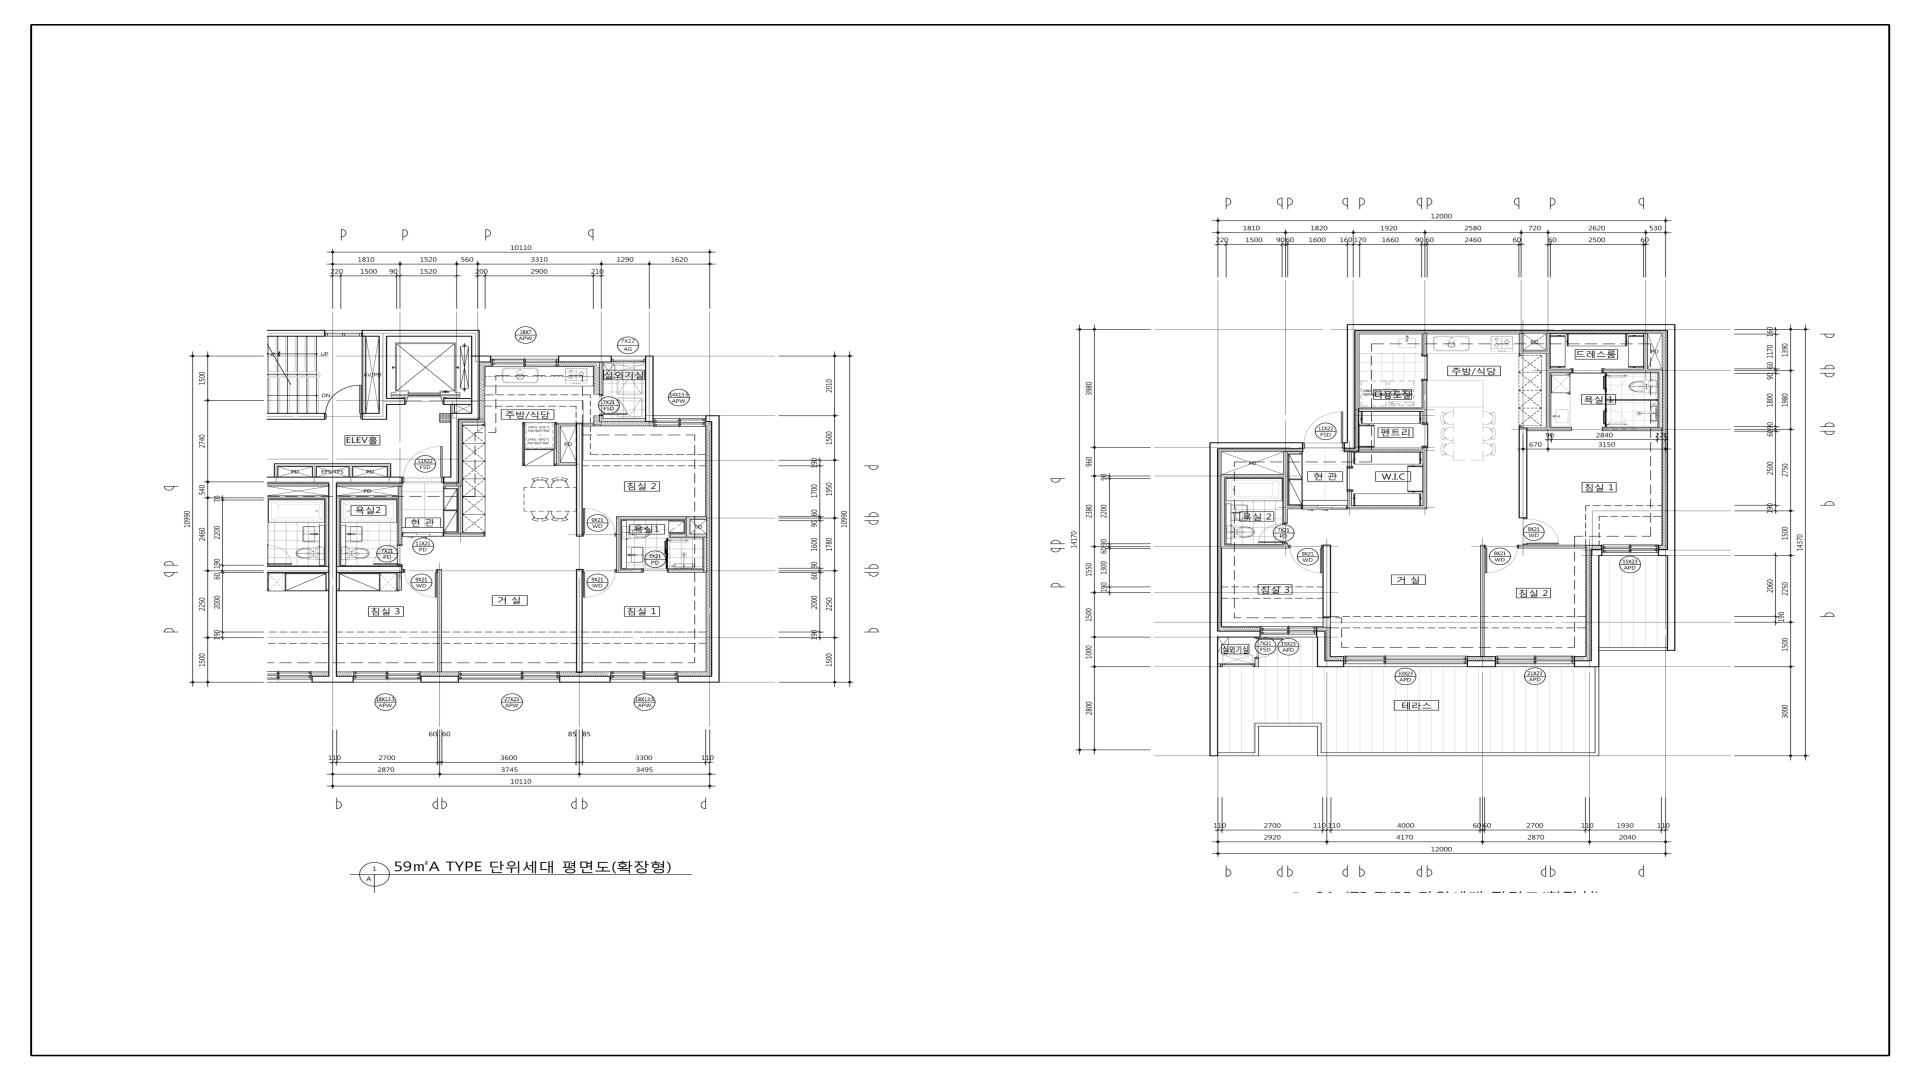door: (402, 446, 443, 484), (1303, 411, 1344, 444), (326, 385, 361, 419), (401, 568, 438, 597), (583, 508, 616, 537), (1523, 518, 1559, 545), (583, 570, 616, 597), (1485, 547, 1518, 574), (1290, 547, 1321, 574), (373, 543, 404, 566), (642, 550, 669, 572), (1258, 524, 1284, 543), (1257, 638, 1283, 657), (1604, 409, 1627, 425), (1604, 376, 1627, 392), (1302, 505, 1346, 509), (402, 533, 443, 537), (1422, 356, 1428, 380), (1346, 468, 1353, 491), (1422, 425, 1428, 447), (1572, 369, 1602, 373), (1571, 429, 1604, 430)
wall: (1344, 324, 1676, 555), (1209, 442, 1303, 667), (705, 415, 720, 676), (1575, 549, 1602, 667), (328, 484, 338, 676), (266, 476, 402, 484), (1316, 630, 1344, 667), (1518, 427, 1527, 518), (471, 330, 480, 413), (576, 423, 583, 537), (361, 330, 471, 336), (378, 336, 388, 413), (576, 568, 583, 673), (1480, 545, 1485, 657), (1323, 545, 1331, 617), (645, 356, 653, 422), (1545, 334, 1551, 427), (451, 419, 459, 477), (338, 566, 402, 572), (361, 336, 367, 413), (438, 570, 442, 671), (266, 330, 324, 336), (268, 413, 326, 419), (1221, 543, 1290, 549), (558, 356, 612, 363), (620, 516, 707, 520), (559, 676, 611, 683), (274, 464, 392, 467), (599, 415, 645, 422), (421, 675, 459, 683), (1348, 505, 1423, 509), (1283, 451, 1287, 524), (678, 676, 720, 683), (336, 496, 340, 566), (1518, 545, 1586, 549), (1221, 477, 1225, 545), (1358, 407, 1423, 411), (1360, 448, 1423, 452), (1423, 447, 1427, 509), (1604, 427, 1663, 431), (398, 487, 402, 545), (1659, 372, 1663, 427), (616, 517, 620, 570), (1466, 661, 1497, 667), (328, 675, 353, 683), (451, 413, 480, 419), (1643, 334, 1648, 369), (443, 398, 471, 405), (459, 487, 463, 533), (1423, 380, 1427, 425), (1527, 427, 1571, 431), (599, 363, 604, 394), (1221, 475, 1283, 477), (443, 533, 484, 537), (1602, 369, 1663, 372), (556, 426, 560, 465), (363, 413, 386, 419), (340, 496, 398, 498), (670, 534, 707, 538), (443, 476, 459, 484), (703, 538, 707, 570), (386, 398, 405, 405), (1519, 349, 1545, 353), (669, 570, 707, 572), (397, 572, 402, 591), (1423, 334, 1427, 356), (1323, 617, 1331, 628), (686, 520, 691, 534), (480, 356, 491, 363), (1607, 400, 1659, 401), (616, 570, 641, 572), (1519, 334, 1523, 349), (1348, 452, 1352, 468), (1348, 491, 1352, 505), (1287, 505, 1302, 509), (1254, 657, 1259, 667), (311, 467, 316, 477), (348, 467, 353, 477), (1551, 369, 1572, 372), (556, 423, 576, 426), (1605, 392, 1607, 410), (386, 467, 392, 476), (560, 463, 576, 465), (450, 405, 455, 413), (274, 467, 278, 476), (583, 423, 593, 426), (1218, 663, 1221, 667)
window: (1344, 655, 1466, 667), (459, 671, 559, 682), (1497, 655, 1575, 667), (611, 671, 678, 683), (353, 671, 421, 682), (492, 356, 558, 367), (653, 415, 705, 427), (1602, 545, 1658, 555), (1261, 626, 1316, 637), (324, 330, 361, 336), (612, 356, 645, 363), (1221, 663, 1254, 667)
